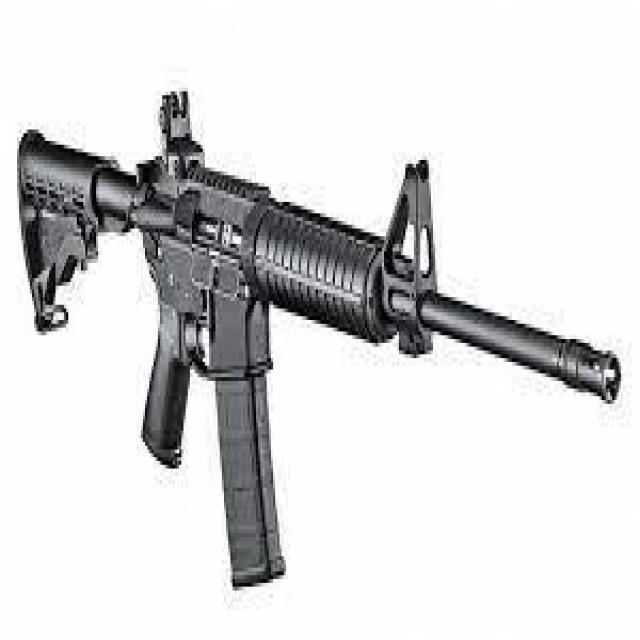rifle: (15, 88, 619, 586)
